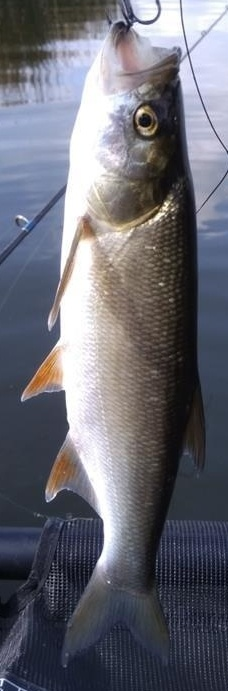Aspius aspius: (20, 20, 208, 671)
